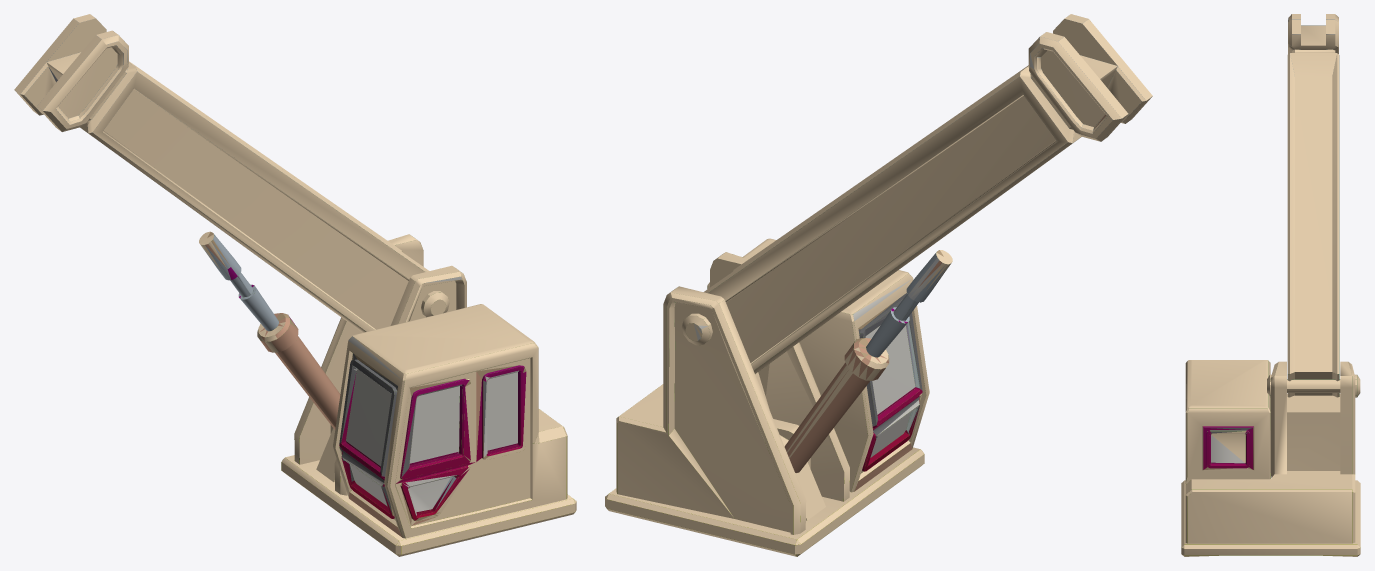
The model's file is cs_deck_crane.glb.
3 views of the same model, side by side, from view 1: azimuth 30°, elevation 25°; view 2: azimuth 150°, elevation 25°; view 3: azimuth 270°, elevation 25° (orthographic). The views are drawn at different scales.
Parts seen in each view (by area): view 1: cs_deck_crane; view 2: cs_deck_crane; view 3: cs_deck_crane.
Part boxes in pixels (left/top/right/bottom): cs_deck_crane: left=14, top=14, right=576, bottom=556; cs_deck_crane: left=605, top=14, right=1152, bottom=556; cs_deck_crane: left=1181, top=14, right=1360, bottom=556.
Size of the model in its own units: 5.16 by 5.55 by 2.28.
